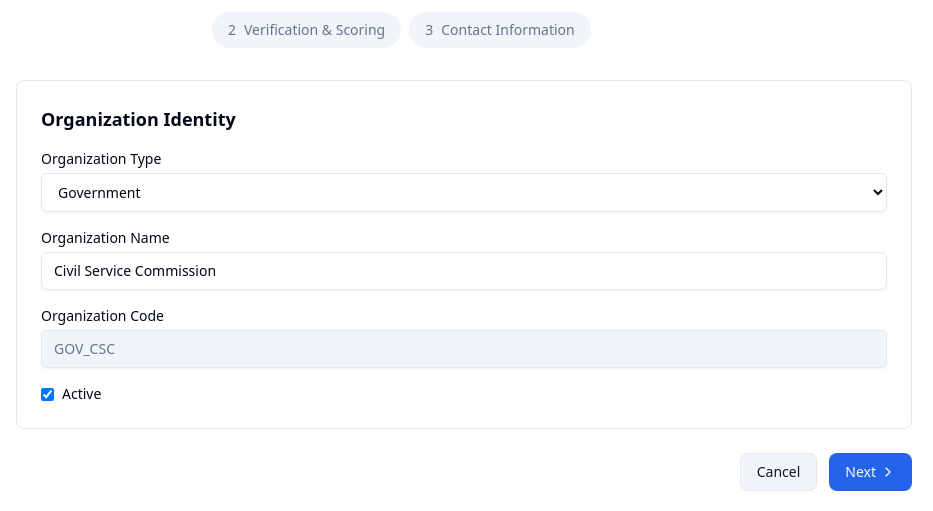
it: OrganizationWizard › pre-populates fields in edit mode
The image size is (933, 511).
Expected: the field showing "GOV_CSC" is shown, [41,330,887,368]
Expected: the field showing "Civil Service Commission" is shown, [41,252,887,290]
Navigate to step 2
Click the button "Next" at (871, 472), box [829,453,912,491]
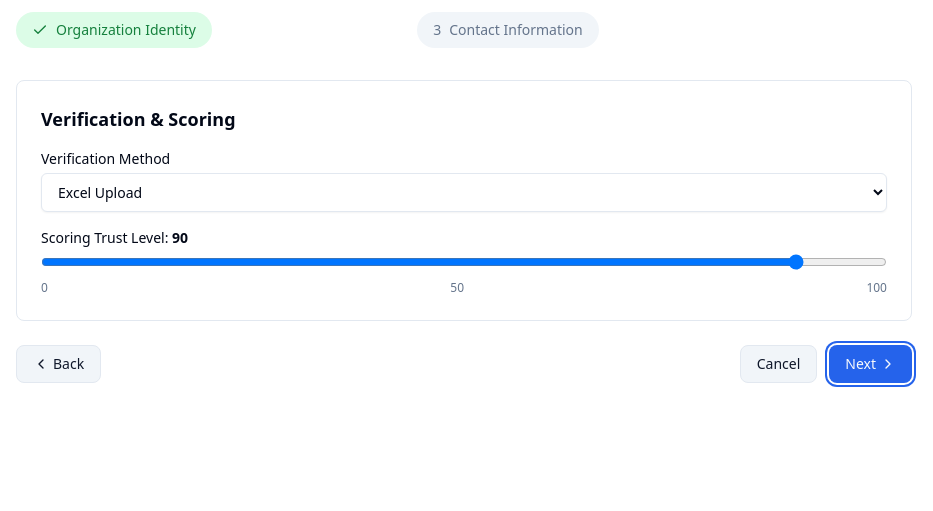
Result: the heading "Verification & Scoring" is shown at [41,107,236,131]
Result: the slider labelled "Scoring Trust Level: 90" holds "90" at [41,254,887,270]
Navigate to step 3
Click the button "Next" at (871, 364), box [829,345,912,383]
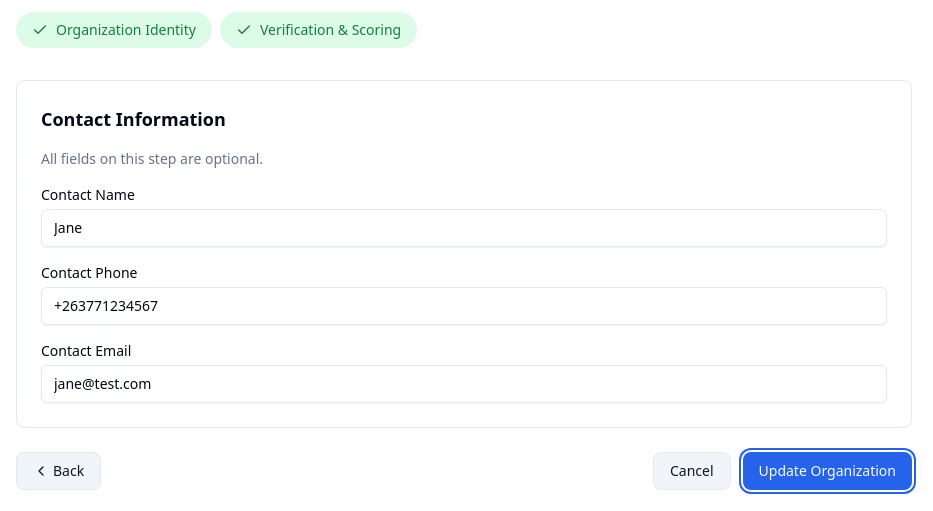
Result: the heading "Contact Information" is shown at [41,107,226,131]
Result: the field showing "Jane" is shown at [41,209,887,247]
Result: the field showing "+263771234567" is shown at [41,287,887,325]
